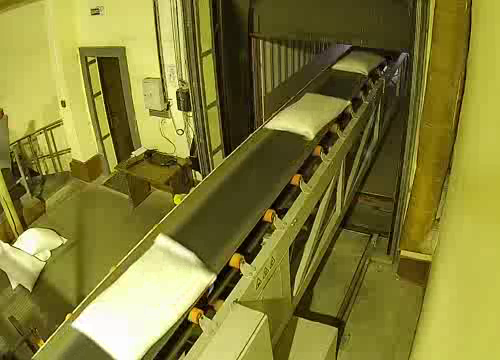bag: (70, 232, 224, 360), (260, 88, 351, 142), (332, 48, 387, 79)
